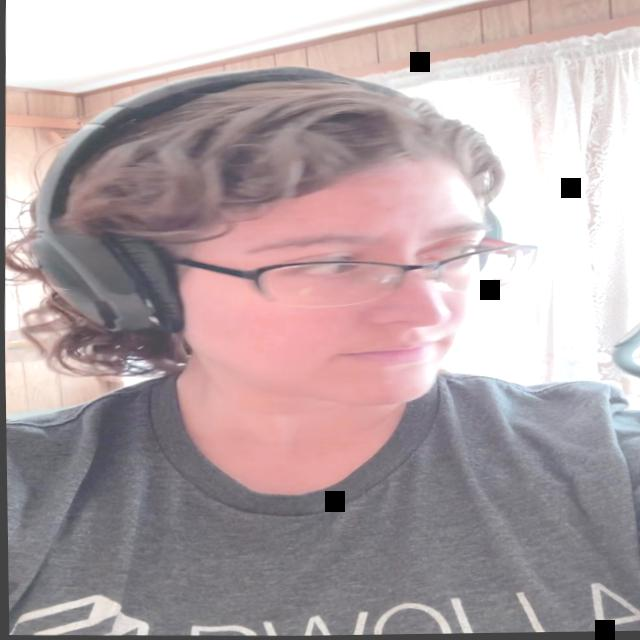NO-Mask: (159, 150, 496, 411)
